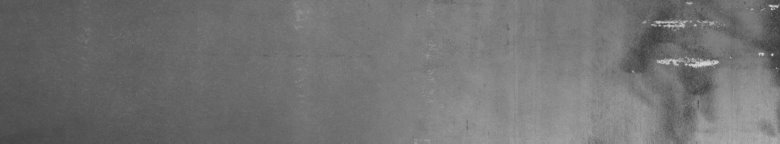hc: (619, 4, 776, 136)
